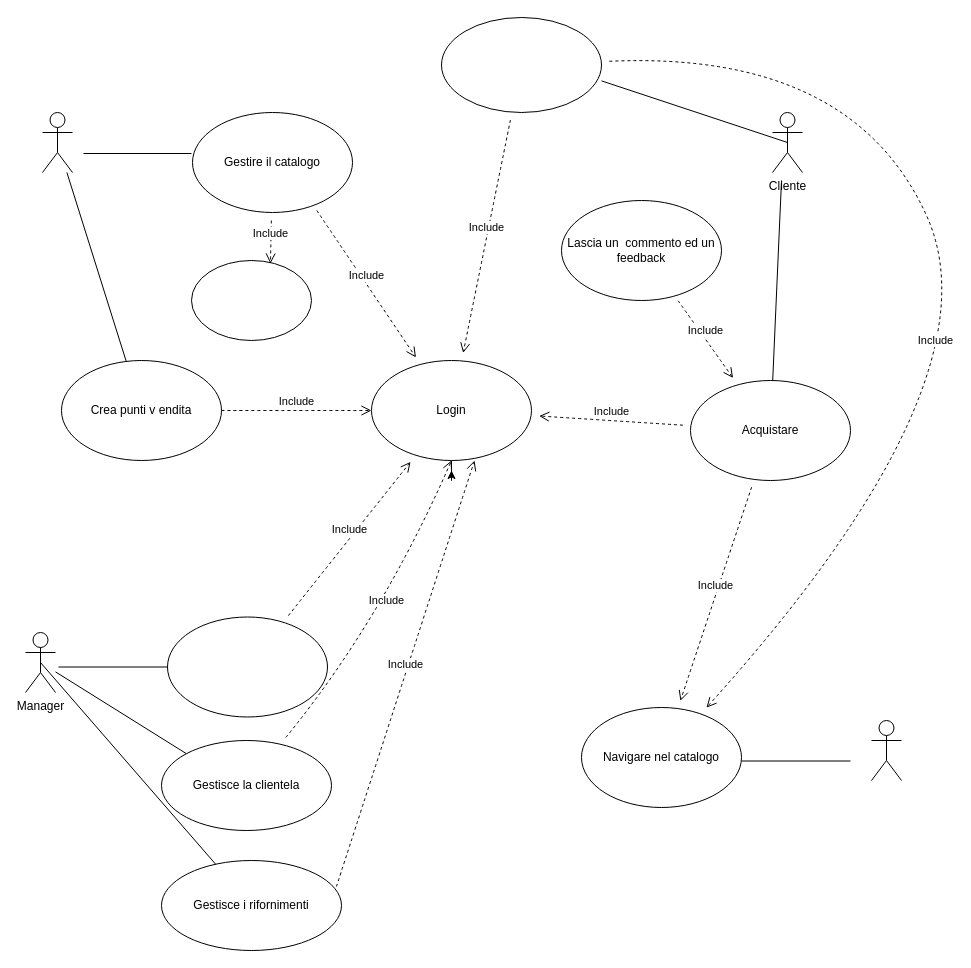
The diagram is 971 pixels wide and 968 high, and some of its shapes have lost their labels. The shapes that lost their labels are listed below. From the top down, each one's centre as x and y in pixels, then its label:
At (521,64): "Prenota".
At (57,142): "Admin".
At (251,300): "Creare composizioni".
At (247,666): "Gestisce i prodotti".
At (886,750): "Guest".
